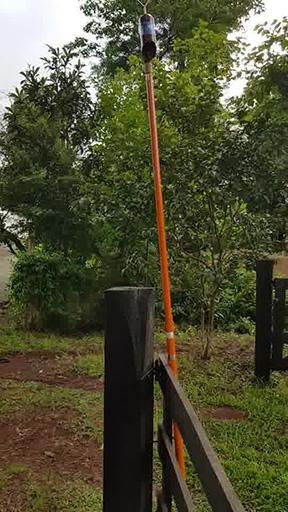Detector_Tensao_Contato: (139, 1, 158, 63)
Vara_Manobra: (139, 66, 178, 383)
